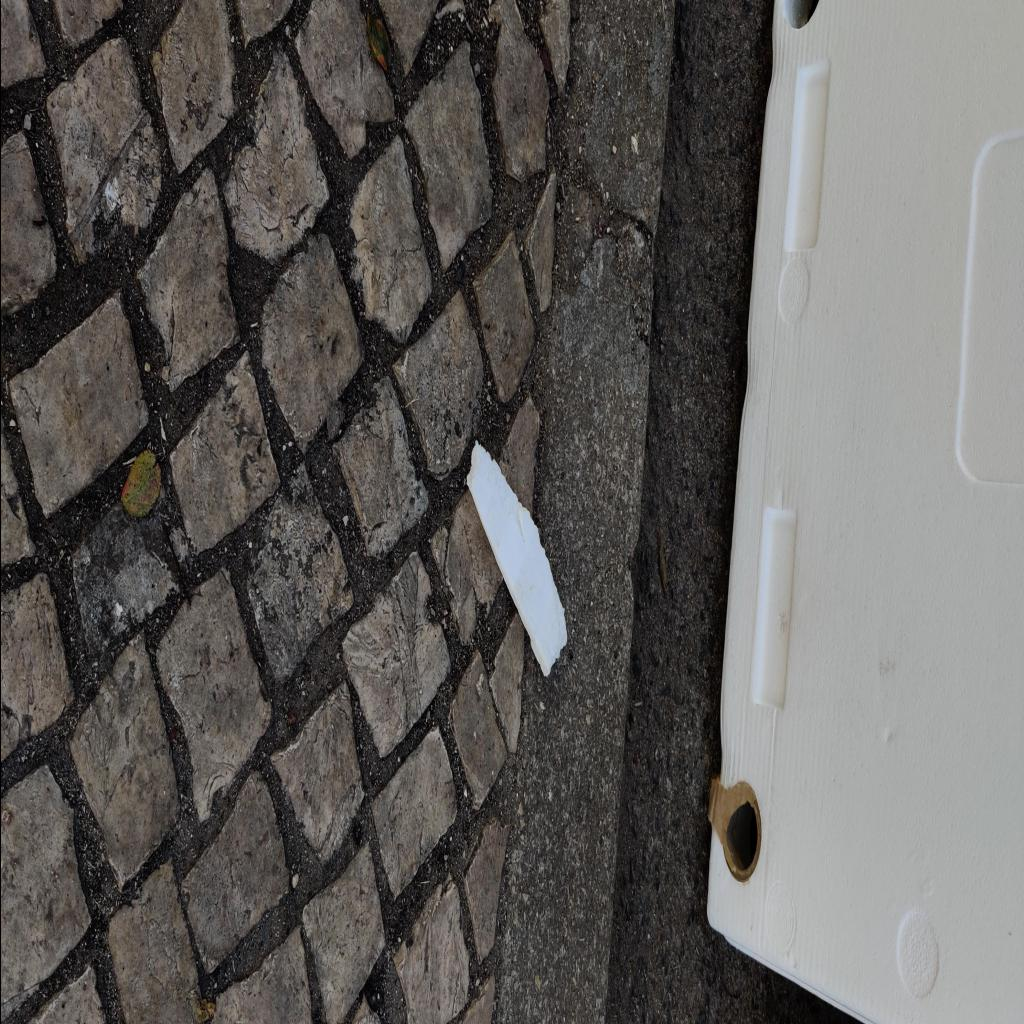Corrugated carton: (707, 776, 759, 882)
Styrofoam piece: (706, 0, 1023, 1023), (466, 440, 568, 676)
